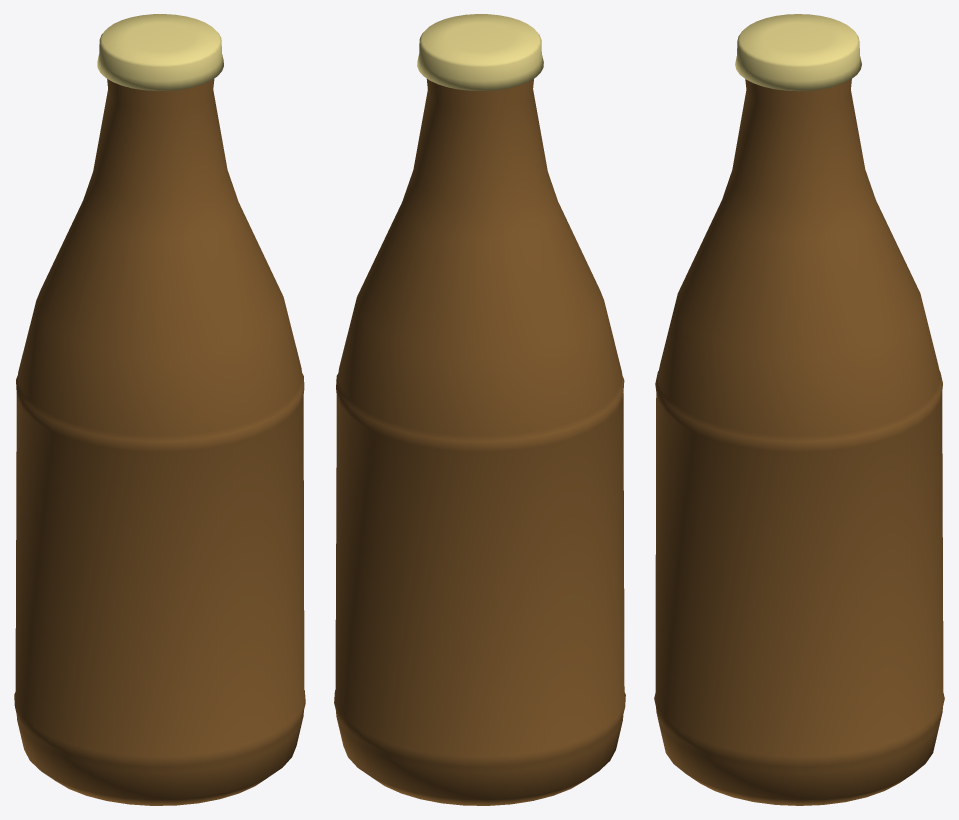
File: bottle_stubby_lod1.glb
3 renders of one model, left to right at view 1: azimuth 30°, elevation 25°; view 2: azimuth 150°, elevation 25°; view 3: azimuth 270°, elevation 25°, orthographic.
Visible parts, largest first — view 1: Glass, Cap; view 2: Glass, Cap; view 3: Glass, Cap.
Boxes of the visible parts, x1,y1,x2,y2 form: Glass: (14,79,305,805); Cap: (97,14,223,91); Glass: (334,79,625,805); Cap: (417,14,543,90); Glass: (654,79,944,805); Cap: (735,14,861,91).
Size of the model in its own units: 0.0683 by 0.1848 by 0.0678.
